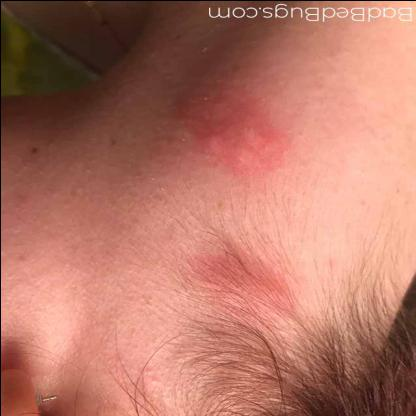Bed Bug: (158, 84, 301, 174), (189, 241, 299, 327)
